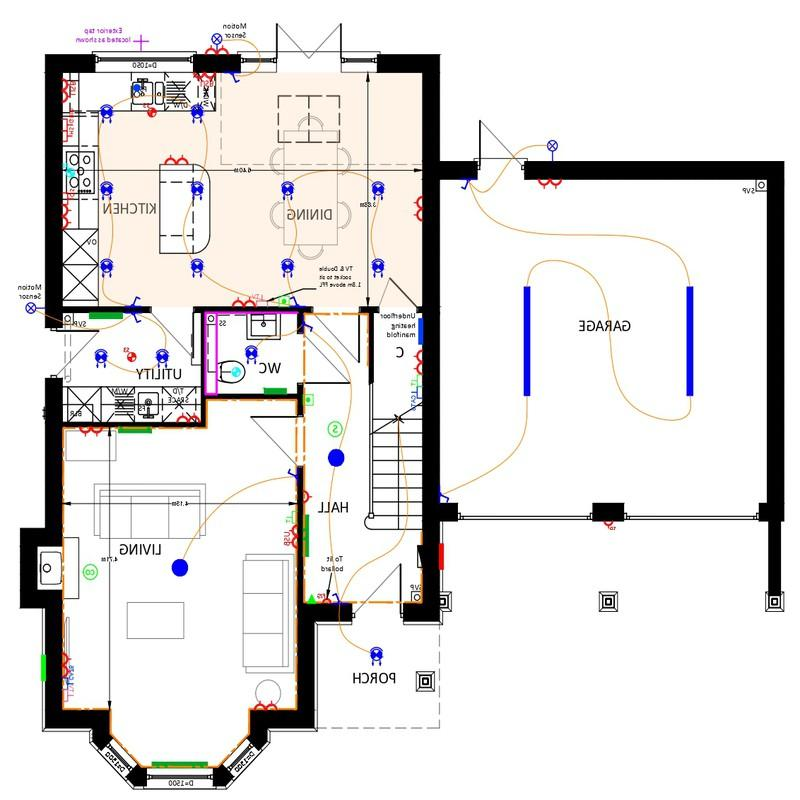BT Entry Point: (304, 590, 318, 605)
Cat 6 Data Socket: (408, 387, 423, 406), (62, 677, 78, 690)
Ceiling Mounted Continuous Extract Fan With Boost Mode Activated By Light Switch: (230, 364, 243, 380)
Ceiling Mounted Continuous Extract Fan With Local Boost Switch: (122, 343, 139, 364), (141, 102, 162, 118)
Co-Ax TV Socket: (61, 690, 78, 703), (255, 294, 271, 307)
Consumer Unit: (413, 541, 424, 572)
Double Socket: (59, 204, 80, 231), (161, 149, 190, 167), (76, 422, 106, 438), (62, 652, 78, 677), (175, 410, 203, 424), (410, 349, 424, 376), (414, 192, 424, 226), (249, 700, 282, 710), (203, 44, 232, 55), (232, 295, 256, 306)
Electric Meter Box: (438, 537, 445, 574)
External Wall Light: (540, 136, 565, 162), (19, 296, 45, 320), (210, 29, 225, 55), (538, 178, 564, 192)
Fused spur: (318, 592, 333, 604)
Gas Meter Box: (36, 650, 49, 689)
Grid Switch: (62, 114, 76, 129)
Hob Switch: (60, 130, 77, 144)
Light Switch: (456, 177, 479, 196), (128, 310, 149, 327), (303, 316, 318, 336), (284, 465, 297, 486), (438, 489, 455, 504), (126, 294, 143, 307), (227, 73, 245, 85), (289, 295, 303, 308), (334, 593, 347, 604)
Low Energy Pendant Light: (321, 444, 350, 478), (369, 247, 392, 287), (186, 250, 210, 288), (276, 250, 301, 284), (97, 97, 119, 134), (97, 175, 119, 211), (367, 172, 389, 206), (186, 96, 208, 128), (170, 552, 191, 585), (276, 180, 301, 207), (240, 340, 265, 367), (186, 179, 212, 204), (152, 347, 179, 371), (364, 643, 386, 670), (97, 254, 119, 281), (92, 345, 114, 371)
Mains Wired Smoke Detector: (326, 418, 344, 441), (303, 392, 318, 411)
Outside Socket: (596, 516, 619, 533)
Outside Tap: (128, 27, 155, 52)
Oven Switch: (62, 189, 80, 205)
Programmable Room Thermostat: (275, 293, 290, 306)
Radiator: (79, 310, 130, 322), (303, 510, 315, 561), (150, 757, 211, 766), (114, 426, 155, 436), (259, 385, 292, 395)
Recirculating Extractor Fan: (62, 159, 78, 181)
Single Socket: (302, 489, 314, 506)
Telephone Socket: (285, 506, 299, 526), (408, 373, 425, 387)
Twin LED Strip Light: (512, 277, 543, 403), (676, 282, 702, 405)
USB Double Socket: (190, 69, 223, 89), (60, 77, 81, 102), (282, 525, 299, 553)
Underfloor Heating Manifold: (413, 315, 423, 348)
Water Entry Position: (131, 82, 143, 95)
